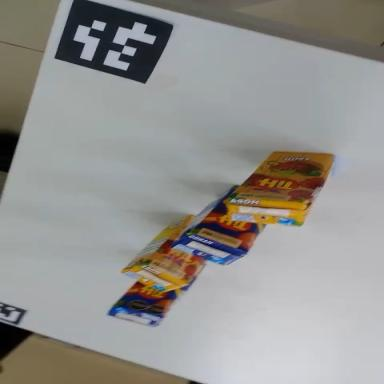HIT-MANGO: (168, 185, 273, 285), (107, 250, 197, 343)
HIT-MORA: (121, 206, 226, 311), (223, 141, 334, 233)
cara_F: (192, 180, 276, 266), (114, 249, 195, 334), (149, 210, 223, 289), (227, 150, 333, 204)
